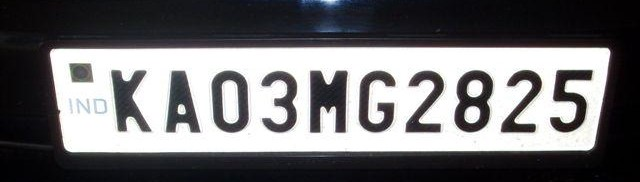numberplate: (47, 43, 612, 158)
